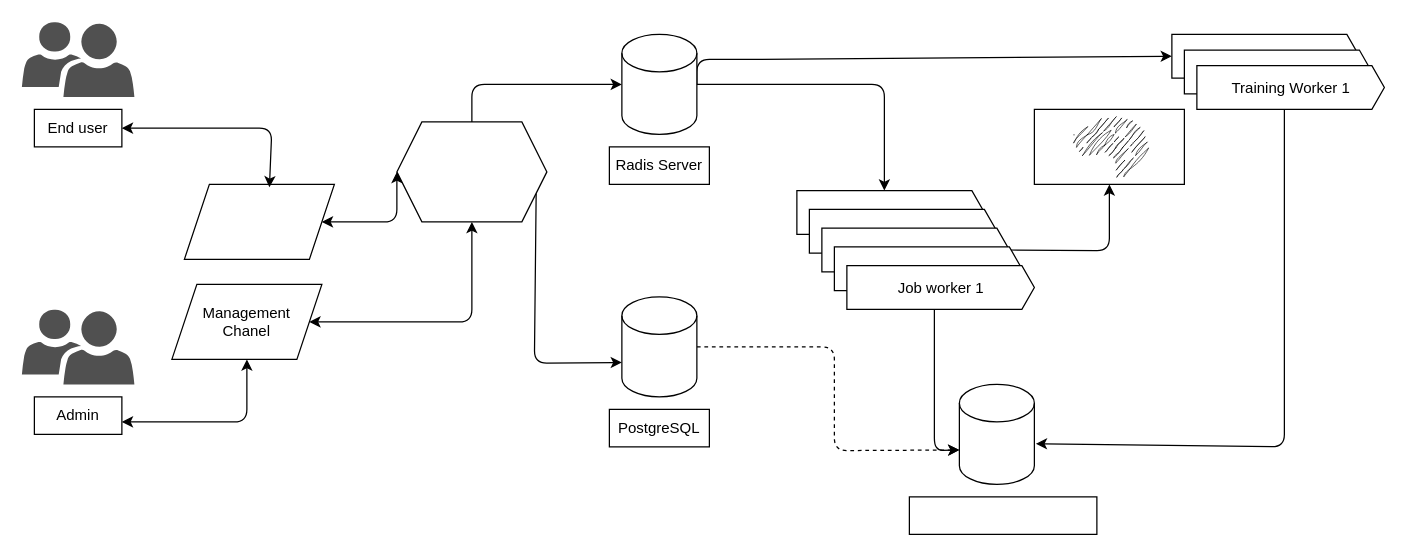
Some shapes in this 1406 by 556 pixel diagram are drawn without their labels. The shapes that lost their labels are listed below. From the top down, each one's centre as x and y in pixels, then its label:
At (471,171): "Central API Server".
At (258,221): "Inference Chanel".
At (1002,515): "Annotated Database,Label Studio ent.".
